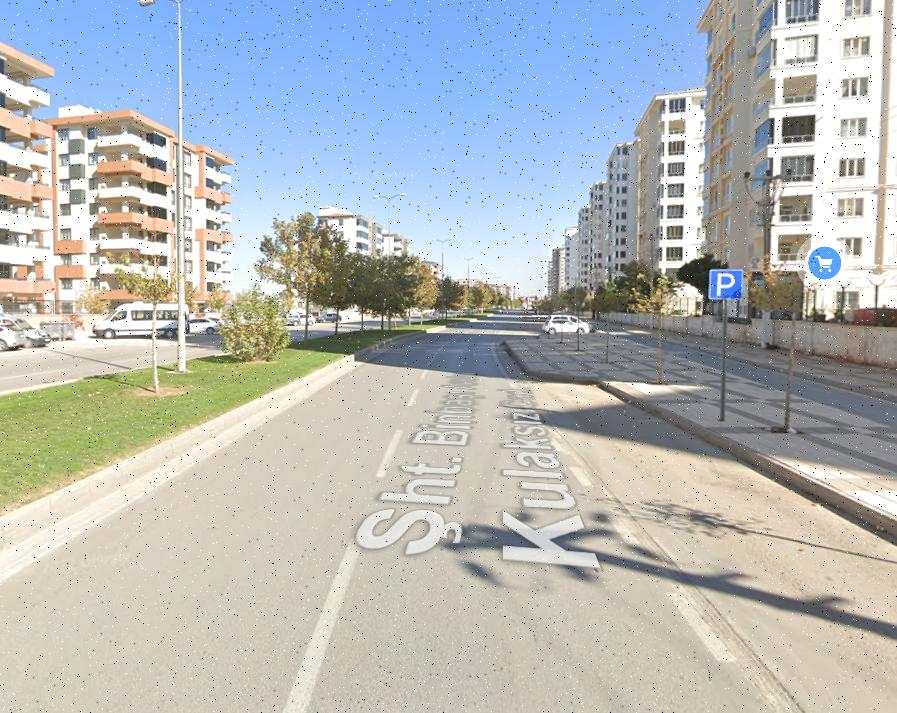park: (709, 269, 743, 301)
